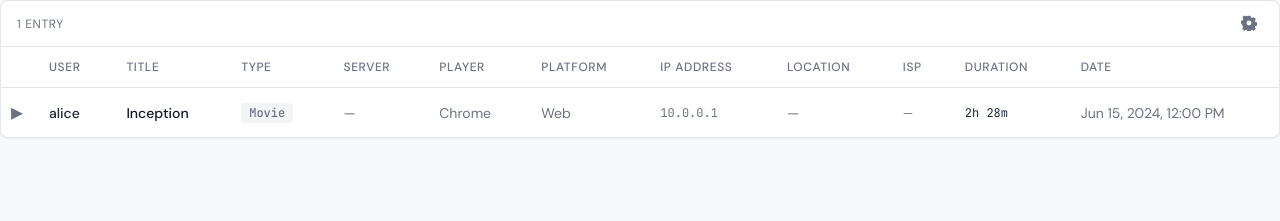
HistoryTable › expands sessions on chevron click
Click the button with test id "session-chevron". click: (17, 112)
box: [11,100,23,124]
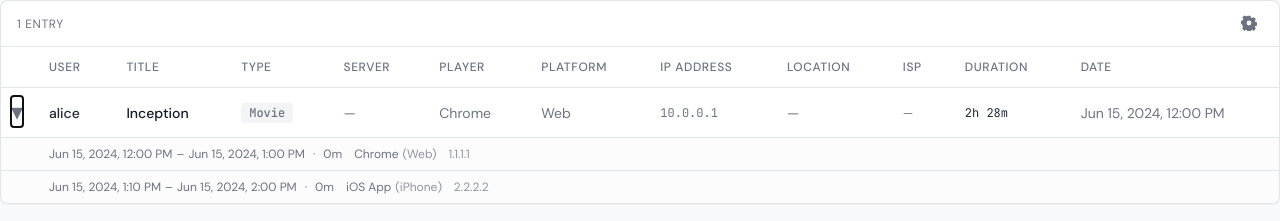
Check: the number of rows with test id "session-row" is 2, box [1,138,1279,170]; [1,170,1279,203]
